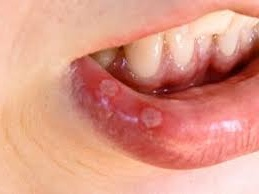Ulcer: (92, 75, 128, 100), (138, 106, 169, 129)
